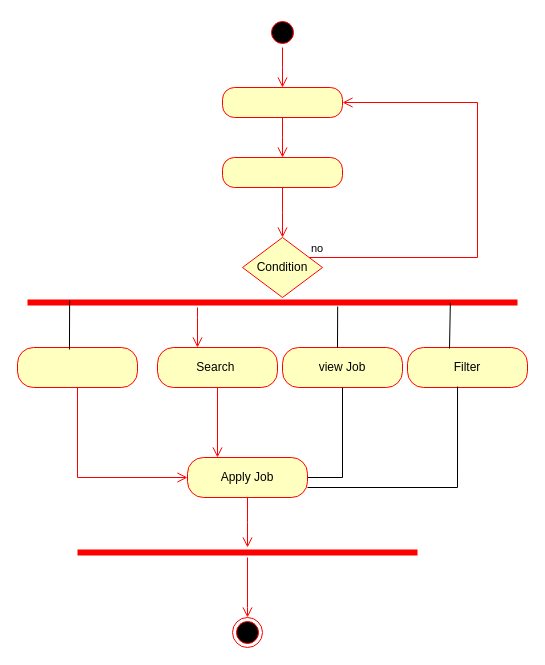
Image size: 545x665. Some labels were removed from this diagram. The centre of each missing label's shape, as x and y in pixels:
"Login" belongs at (282,172).
"Manage Job" belongs at (77,367).
"Registration" belongs at (282,102).
